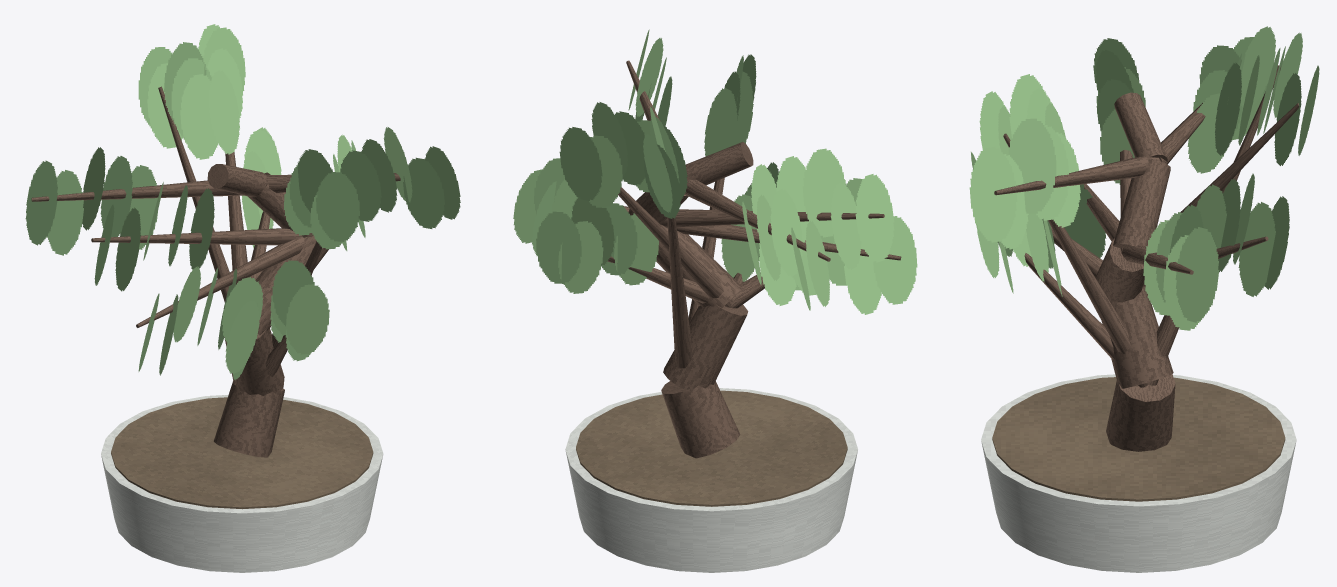
The model's file is plant_bonsai02.glb.
The picture shows the model from 3 angles, left to right: view 1: azimuth 30°, elevation 25°; view 2: azimuth 150°, elevation 25°; view 3: azimuth 270°, elevation 25°; orthographic projection. The views are drawn at different scales.
Visible parts, largest first — view 1: foliage, soil, pot, branches, trunk; view 2: foliage, soil, pot, trunk, branches; view 3: foliage, soil, pot, trunk, branches.
Part boxes in pixels (bbox=[...]): foliage: bbox=[25, 24, 460, 380]; soil: bbox=[111, 397, 373, 509]; pot: bbox=[101, 394, 383, 572]; branches: bbox=[31, 86, 400, 376]; trunk: bbox=[207, 164, 328, 457]; foliage: bbox=[513, 29, 917, 314]; soil: bbox=[576, 390, 847, 506]; pot: bbox=[565, 388, 857, 572]; trunk: bbox=[628, 142, 753, 458]; branches: bbox=[607, 60, 901, 368]; foliage: bbox=[969, 26, 1319, 330]; soil: bbox=[992, 377, 1285, 501]; pot: bbox=[981, 374, 1296, 572]; trunk: bbox=[1096, 92, 1175, 451]; branches: bbox=[994, 65, 1299, 387].
Size of the model in its own units: 0.571 by 0.719 by 0.4865.
4 materials, 4 textured.
